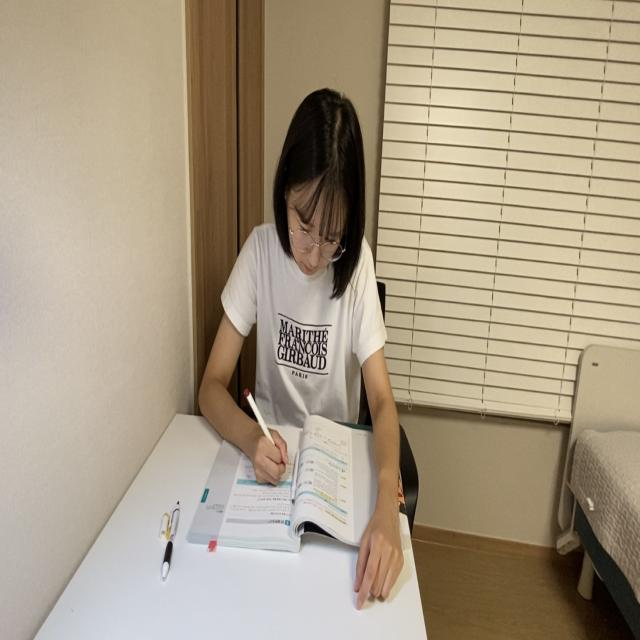studying-person: (188, 64, 414, 610)
